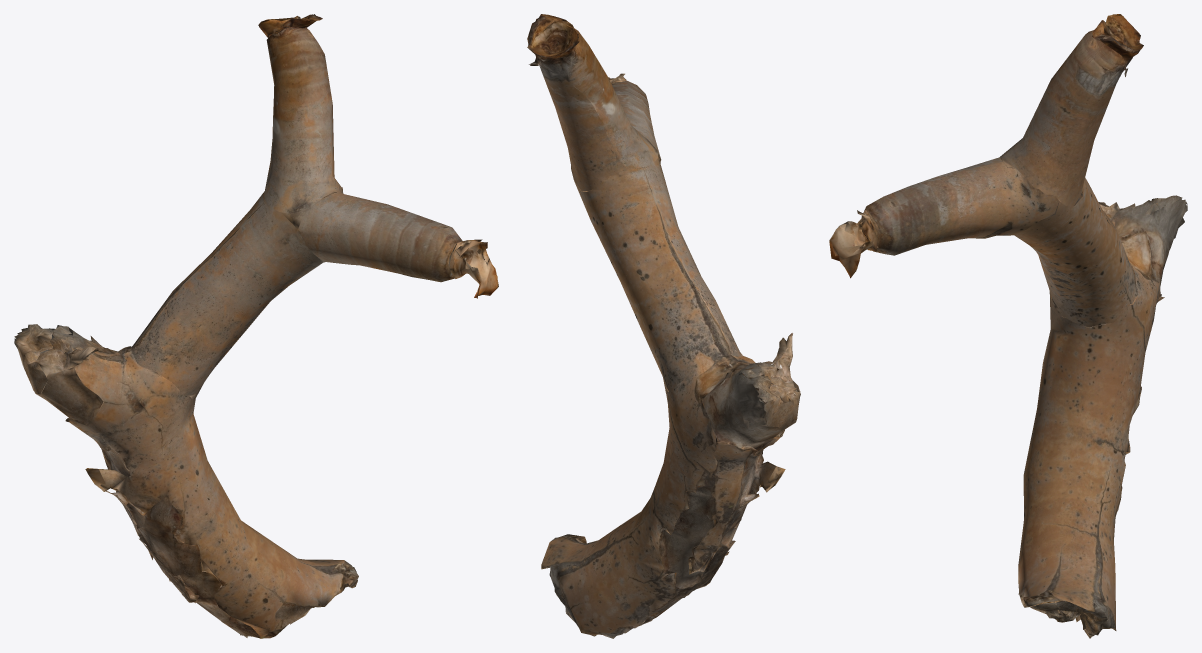
Rendered from dead_quiver_branch_01.glb.
3 views of the same model, side by side, from view 1: azimuth 30°, elevation 25°; view 2: azimuth 150°, elevation 25°; view 3: azimuth 270°, elevation 25° (orthographic). The views are drawn at different scales.
Visible parts, largest first — view 1: model; view 2: model; view 3: model.
Part boxes in pixels (<box>): model: <box>14,14,498,638</box>; model: <box>527,14,800,638</box>; model: <box>829,14,1187,638</box>.
Size of the model in its own units: 0.2546 by 0.4384 by 0.2261.
Materials: 1 (1 with a texture image).
